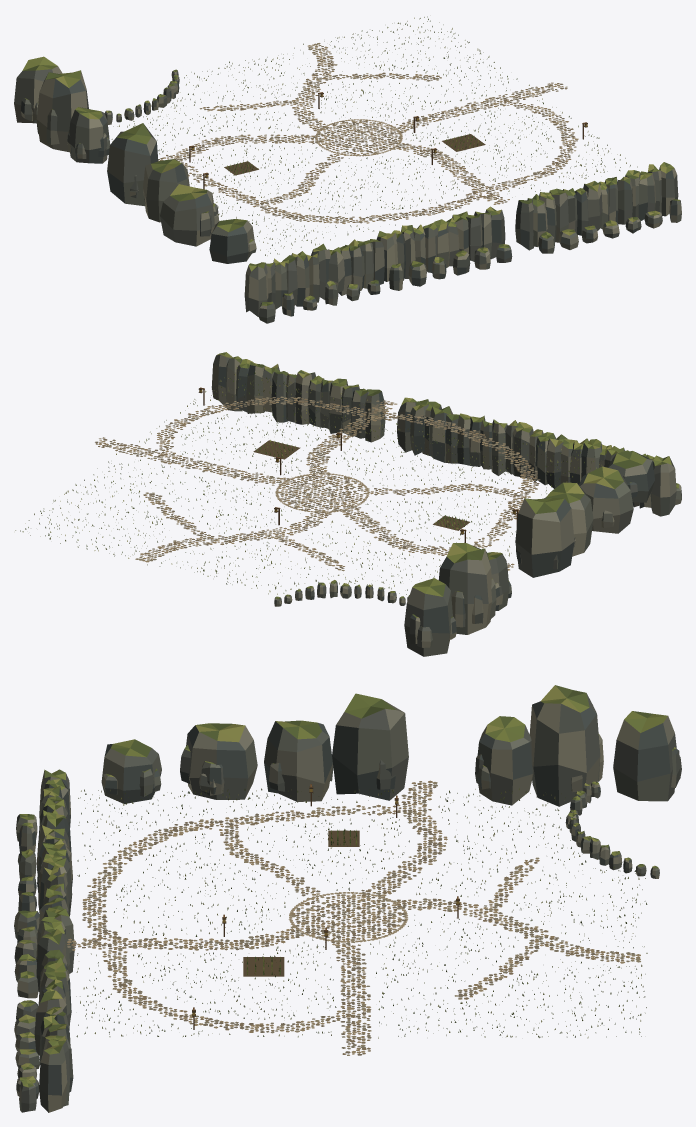
File: greenhaven-landscape.glb
3 views of the same model, one above another, from view 1: azimuth 30°, elevation 25°; view 2: azimuth 150°, elevation 25°; view 3: azimuth 270°, elevation 25° (orthographic). The views are drawn at different scales.
Visible parts, largest first — view 1: A01_SculptedCliffs, A01_HandLaidStonework, A01_MeadowAndGardens; view 2: A01_SculptedCliffs, A01_HandLaidStonework, A01_MeadowAndGardens; view 3: A01_SculptedCliffs, A01_HandLaidStonework, A01_MeadowAndGardens.
Boxes of the visible parts, x1,y1,x2,y2 form: A01_SculptedCliffs: [14, 56, 681, 323]; A01_HandLaidStonework: [158, 43, 587, 223]; A01_MeadowAndGardens: [111, 16, 637, 255]; A01_SculptedCliffs: [211, 352, 681, 656]; A01_HandLaidStonework: [95, 387, 540, 571]; A01_MeadowAndGardens: [15, 367, 601, 594]; A01_SculptedCliffs: [14, 685, 681, 1112]; A01_HandLaidStonework: [67, 780, 640, 1055]; A01_MeadowAndGardens: [76, 788, 647, 1038].
Bounding box in the file's own units: 79.04 × 17.69 × 74.94.
